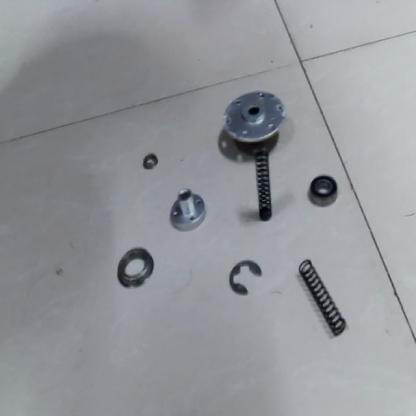FOD: (3, 9, 415, 413), (297, 256, 350, 340), (220, 86, 287, 149), (166, 184, 210, 234), (251, 143, 277, 225), (115, 243, 157, 289), (227, 256, 262, 298), (306, 172, 340, 209), (141, 150, 156, 172)
